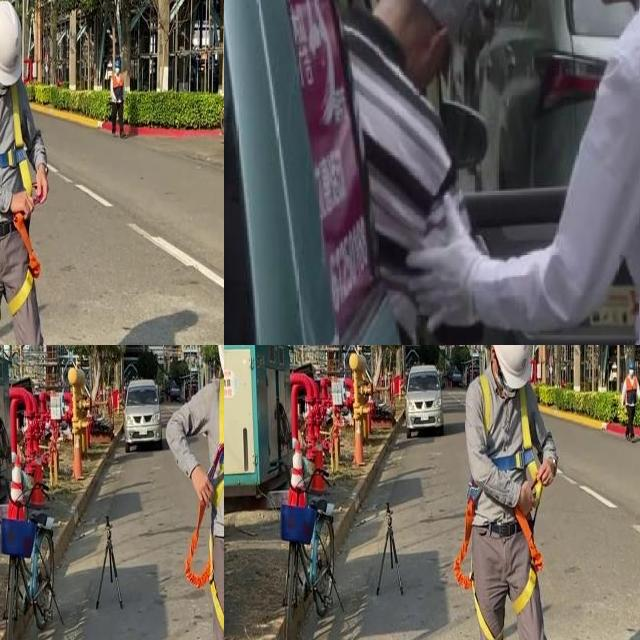Harness: (185, 378, 224, 634), (476, 379, 543, 504), (453, 483, 503, 640), (511, 506, 544, 616), (0, 84, 32, 194), (8, 214, 42, 316)
hand_glove: (404, 194, 475, 334)
person: (519, 0, 640, 345)
